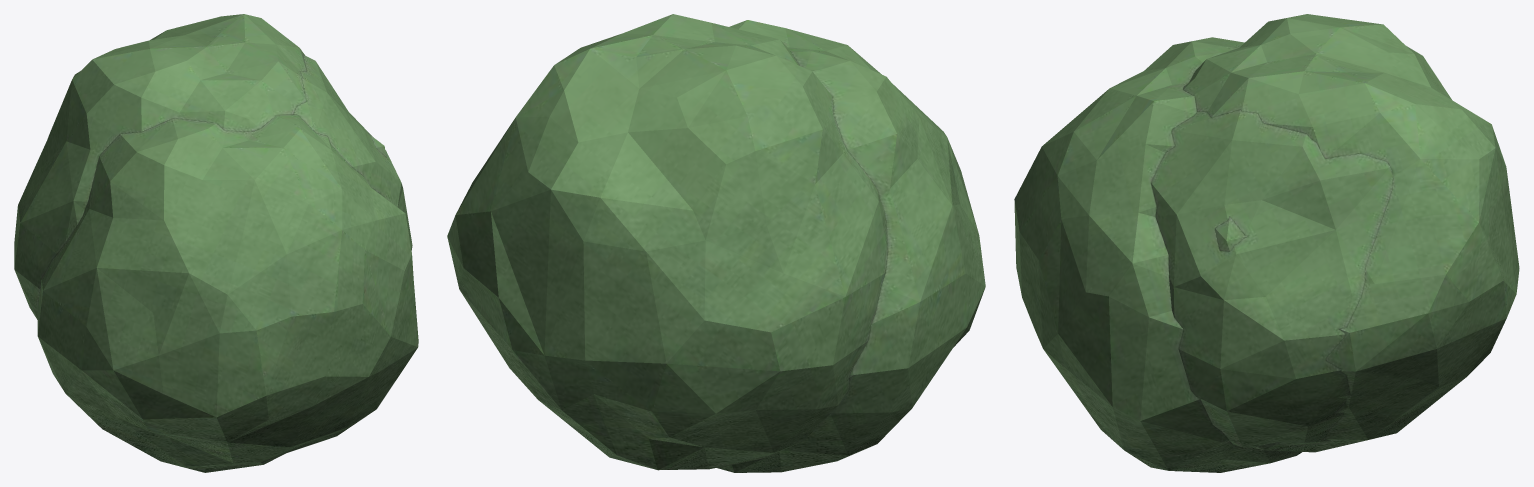
Rendered from p_busch.glb.
3 renders of one model, left to right at view 1: azimuth 30°, elevation 25°; view 2: azimuth 150°, elevation 25°; view 3: azimuth 270°, elevation 25°, orthographic. The views are drawn at different scales.
Parts seen in each view (by area): view 1: p_busch; view 2: p_busch; view 3: p_busch.
Part boxes in pixels (bbox=[...]): p_busch: bbox=[14, 14, 418, 472]; p_busch: bbox=[447, 14, 985, 472]; p_busch: bbox=[1014, 14, 1519, 472].
Bounding box in the file's own units: 0.1715 × 0.1736 × 0.1892.
Materials: 1 (1 with a texture image).
